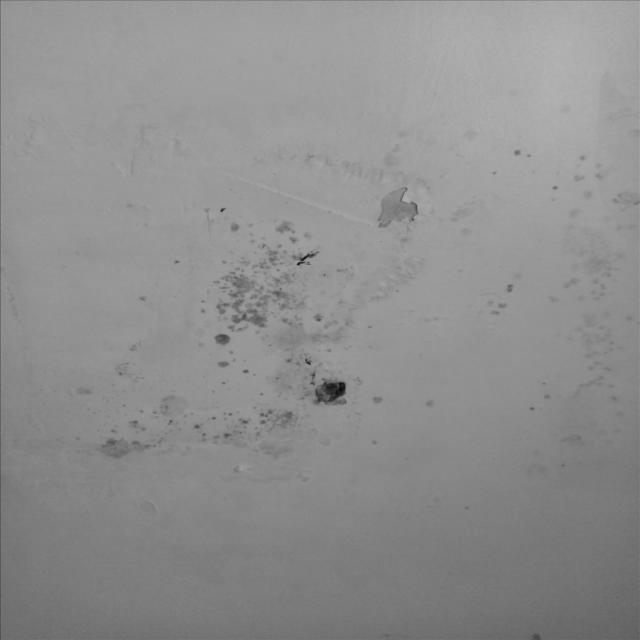stain marks: (0, 67, 640, 525)
